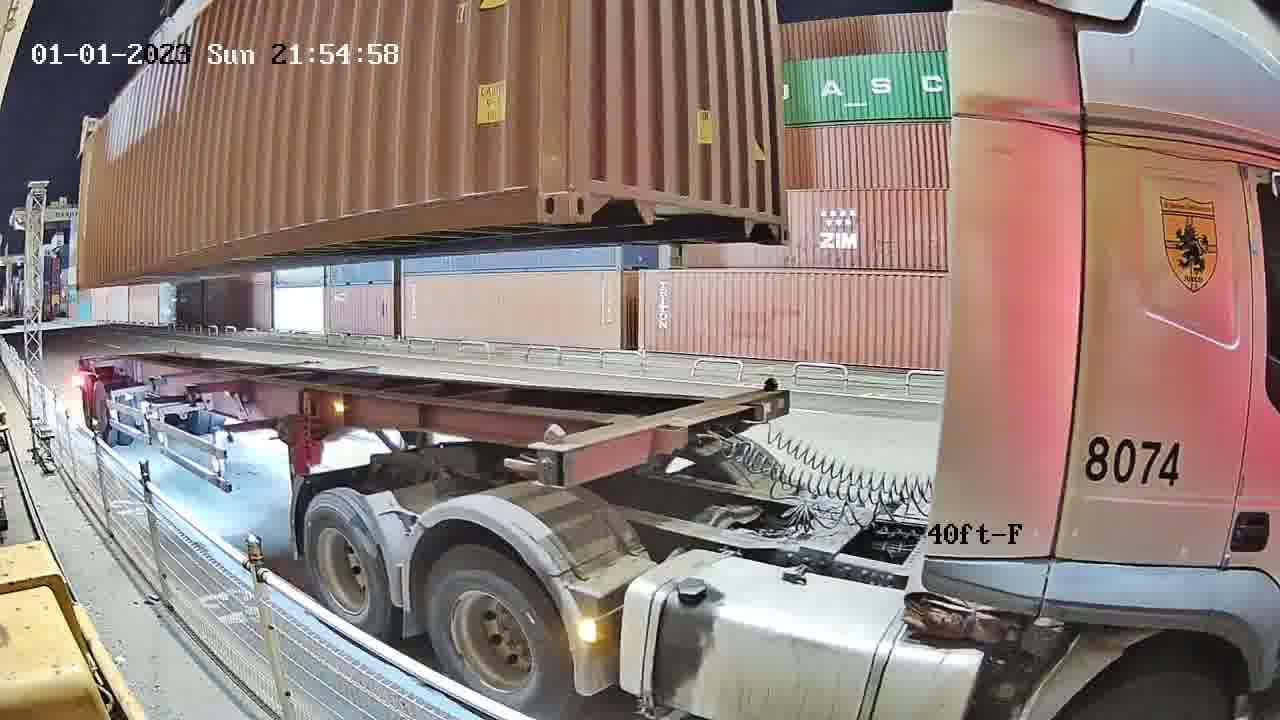Chassis: (534, 388, 788, 482)
Cone: (527, 421, 567, 489), (758, 375, 787, 413)
Hole_L: (569, 162, 623, 223)
Hole_R: (512, 161, 570, 225), (756, 193, 791, 246)
Tire: (422, 543, 575, 719), (304, 493, 392, 631)
